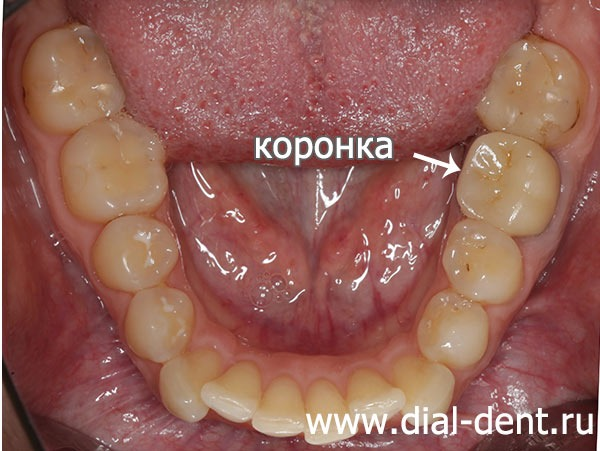LL1BC_healthy: (419, 294, 488, 363)
LL1M_healthy: (462, 137, 556, 229)
LL2BC_decay: (444, 223, 521, 300)
LL2M_decay: (488, 42, 585, 144)
LLCI_healthy: (304, 378, 348, 411)
LLC_healthy: (398, 359, 454, 406)
LLLI_healthy: (349, 371, 405, 413)
LR1BC_healthy: (127, 288, 193, 359)
LR1M_healthy: (61, 119, 167, 217)
LR2BC_healthy: (92, 217, 178, 288)
LR2M_healthy: (29, 38, 121, 129)
LRCI_healthy: (253, 372, 304, 437)
LRC_healthy: (161, 352, 214, 421)
LRLI_healthy: (207, 362, 258, 421)
